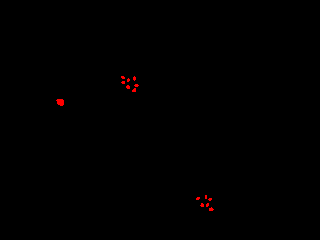Target: (56, 99, 64, 106), (209, 207, 214, 211), (126, 85, 130, 89), (132, 88, 136, 92), (200, 203, 204, 207), (133, 76, 136, 81), (134, 84, 139, 87), (121, 76, 125, 79), (127, 78, 130, 82), (121, 81, 125, 84), (196, 197, 200, 200), (208, 198, 212, 201), (206, 203, 209, 207), (205, 195, 207, 199)
